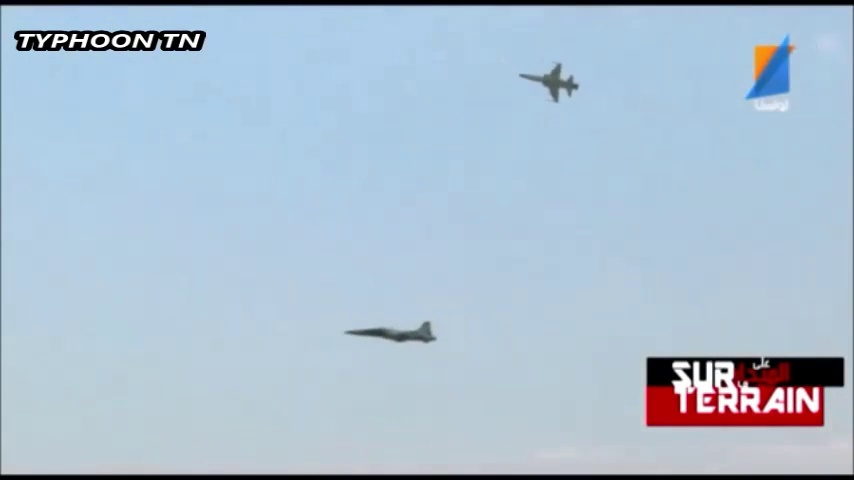Airplane: (343, 319, 439, 345), (517, 63, 580, 99)
